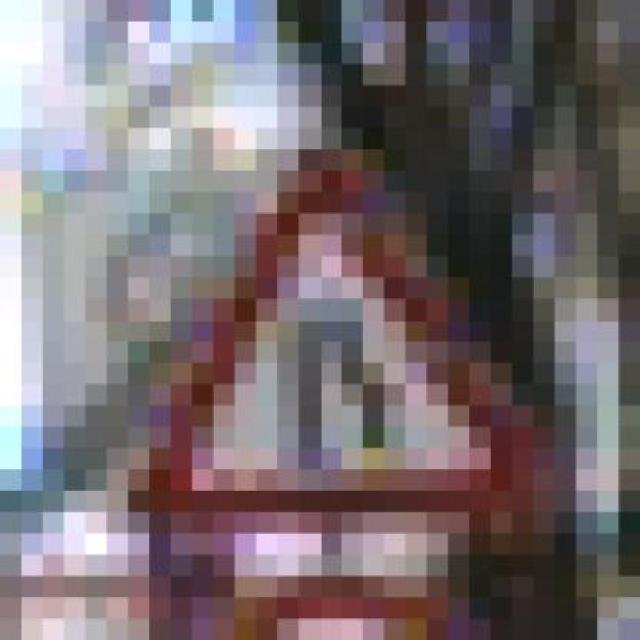-Road narrows on right: (107, 128, 576, 534)
